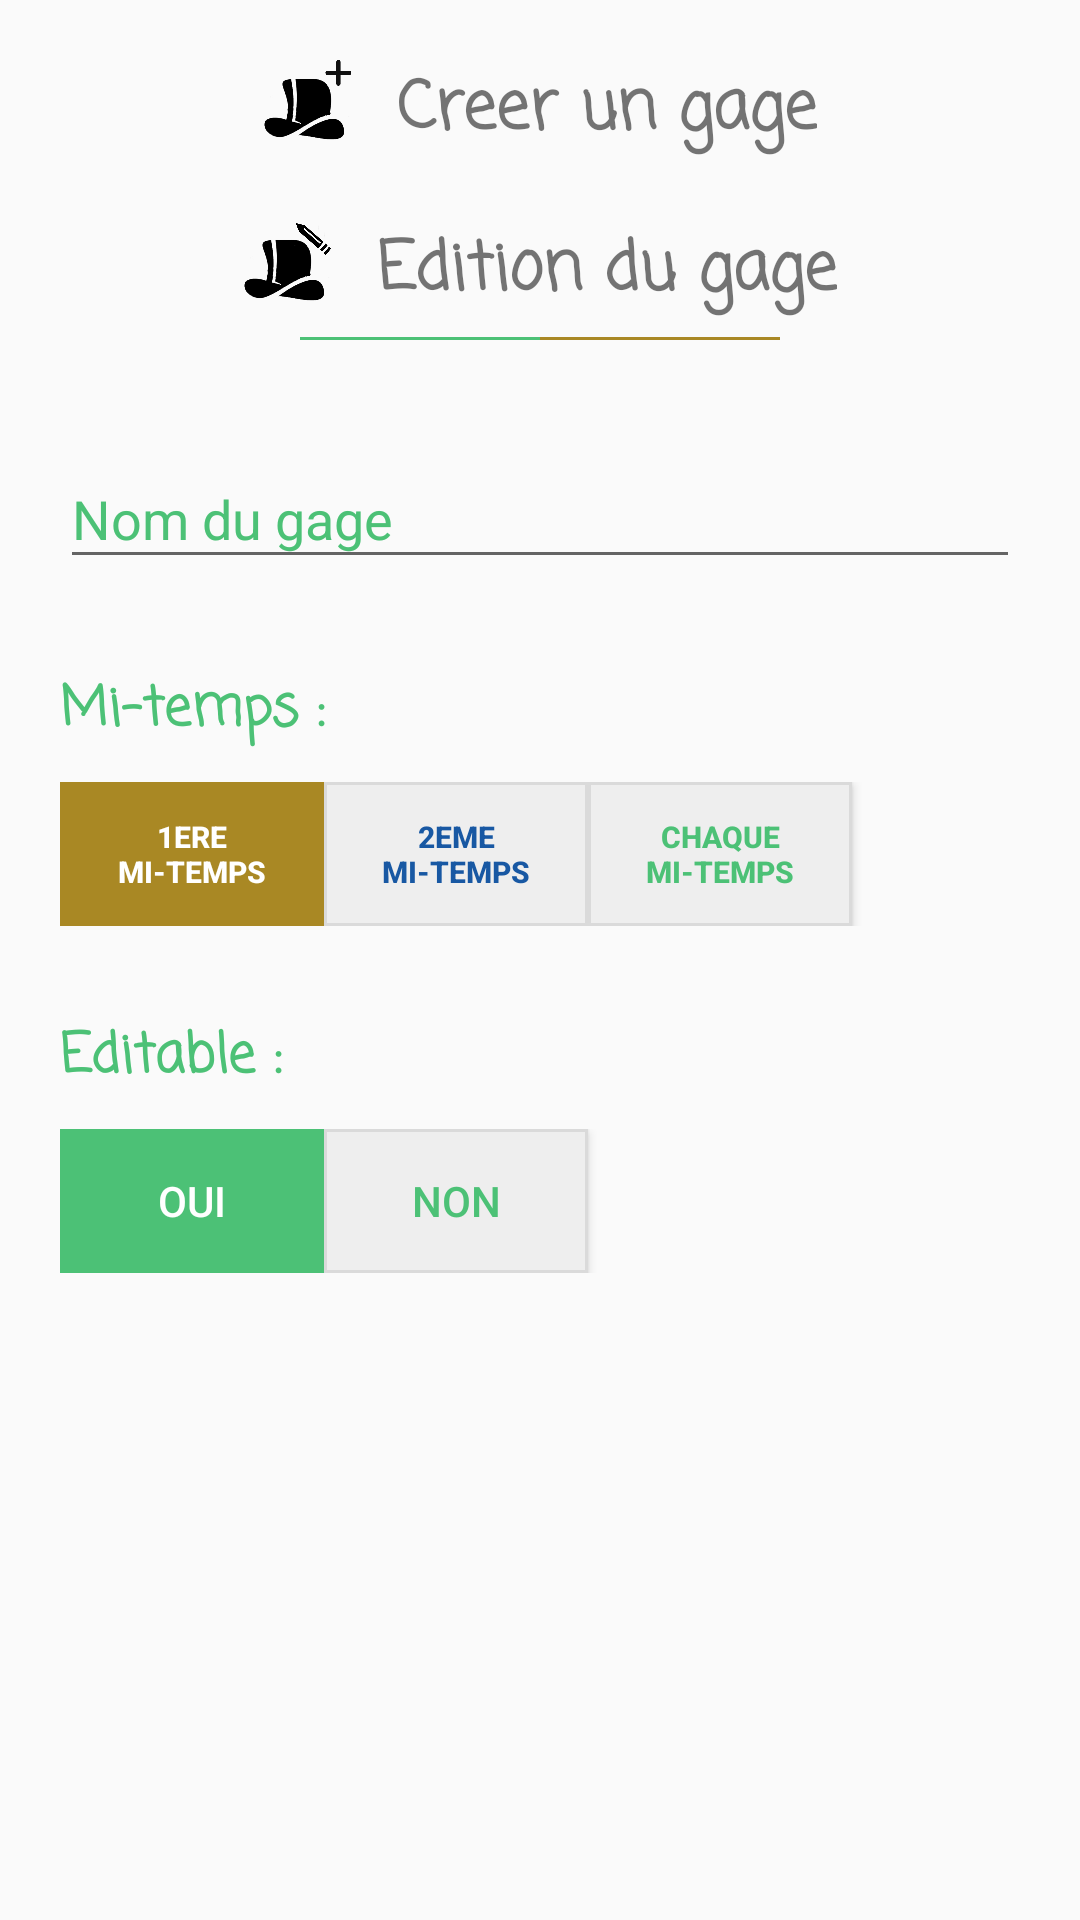

Icon click points for this 1080px x 1920px phone screenshot, format (x=x, y=y):
add objective: (x=307, y=100)
edit objective: (x=287, y=262)
